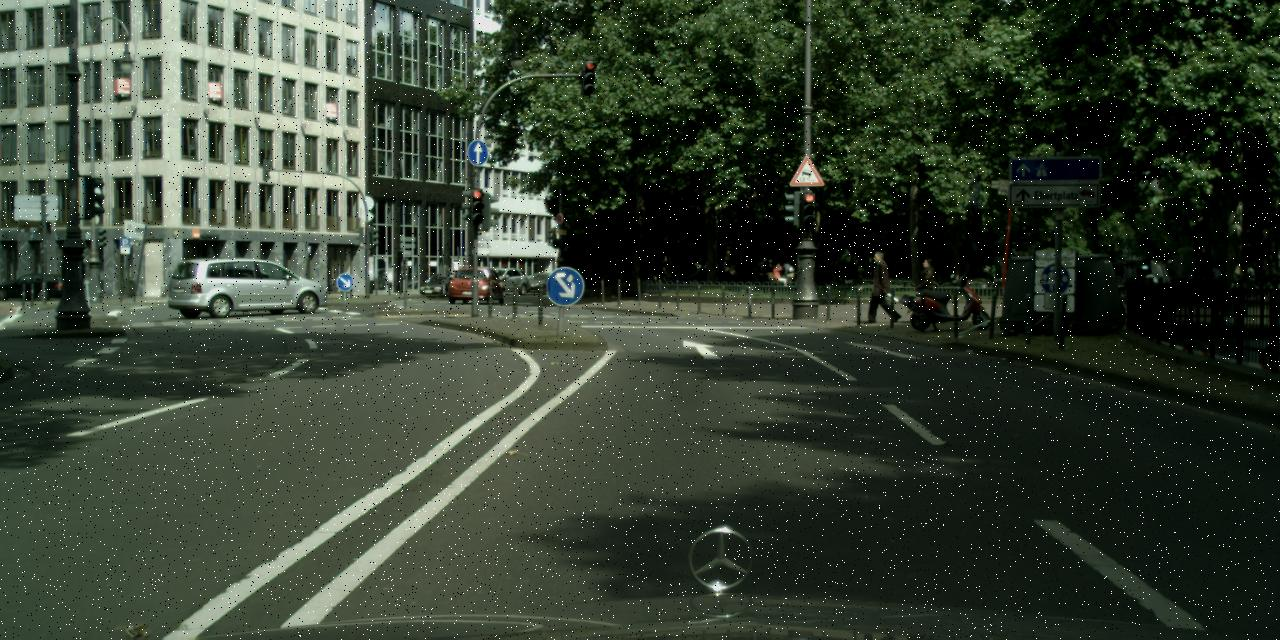ped: (867, 251, 895, 321), (917, 257, 940, 315), (771, 260, 793, 280), (989, 264, 996, 283)
